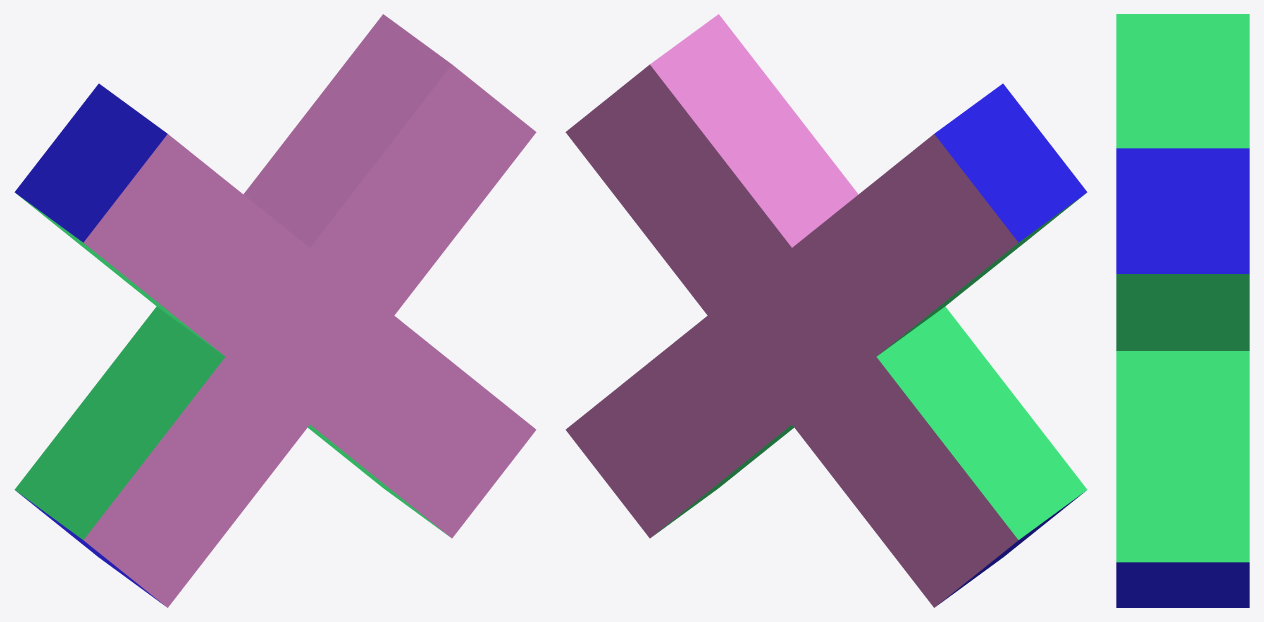
The picture shows the model from 3 angles, left to right: view 1: azimuth 30°, elevation 25°; view 2: azimuth 150°, elevation 25°; view 3: azimuth 270°, elevation 25°; orthographic projection. The views are drawn at different scales.
Parts seen in each view (by area): view 1: Cube.014, Cube.016, Cube.017; view 2: Cube.015, Cube.016, Cube.014, Cube.017; view 3: Cube.016, Cube.017.
Part boxes in pixels (box(x1,y1,x2,y2)): Cube.014: box(83, 14, 536, 607); Cube.016: box(14, 194, 448, 539); Cube.017: box(14, 83, 167, 606); Cube.015: box(565, 64, 1018, 607); Cube.016: box(653, 194, 1087, 539); Cube.014: box(650, 14, 858, 247); Cube.017: box(934, 83, 1087, 606); Cube.016: box(1116, 14, 1249, 562); Cube.017: box(1116, 148, 1249, 607).
Bounding box in the file's own units: 0.5309 × 0.5309 × 0.1399.
